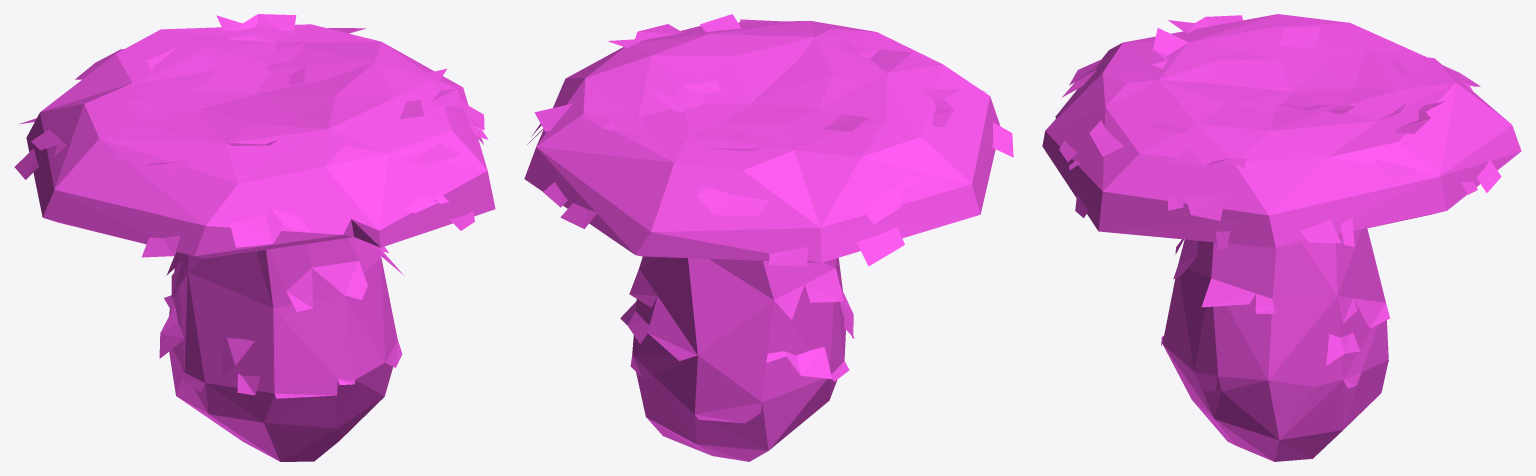
Rendered from SM_Mushroom_Fluffy_Big_A_Fantasy.fbx.
3 views of the same model, side by side, from view 1: azimuth 30°, elevation 25°; view 2: azimuth 150°, elevation 25°; view 3: azimuth 270°, elevation 25° (orthographic). The views are drawn at different scales.
Visible parts, largest first — view 1: SM_Mushroom_Fluffy_Big_A_Fantasy; view 2: SM_Mushroom_Fluffy_Big_A_Fantasy; view 3: SM_Mushroom_Fluffy_Big_A_Fantasy.
Part boxes in pixels (left/top/right/bottom): SM_Mushroom_Fluffy_Big_A_Fantasy: left=14, top=14, right=495, bottom=461; SM_Mushroom_Fluffy_Big_A_Fantasy: left=524, top=14, right=1013, bottom=461; SM_Mushroom_Fluffy_Big_A_Fantasy: left=1042, top=14, right=1521, bottom=461.
Size of the model in its own units: 2.25 by 1.91 by 2.27.
